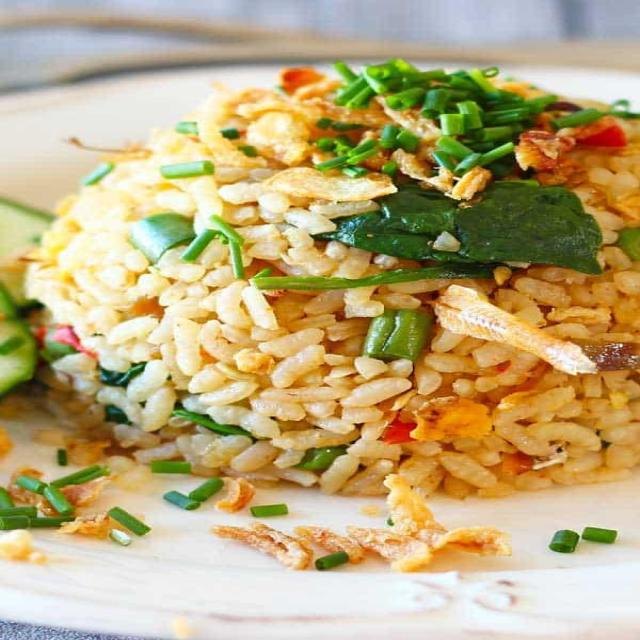Nasi Goreng: (49, 65, 640, 544)
